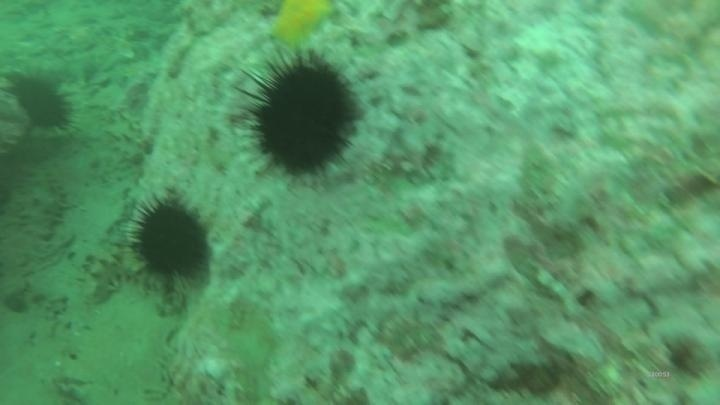echinus: (234, 48, 364, 184), (127, 192, 214, 288), (5, 70, 78, 136)
holothurian: (19, 165, 71, 244), (81, 242, 136, 308), (1, 235, 37, 314)
starfish: (264, 1, 339, 58)
